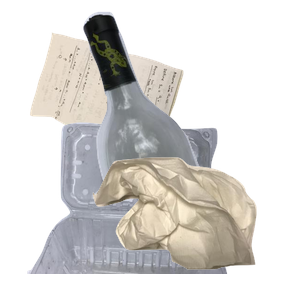glass: (81, 10, 300, 190)
paper: (27, 30, 203, 178)
plastic: (25, 120, 245, 300)
trash: (90, 155, 300, 300)
